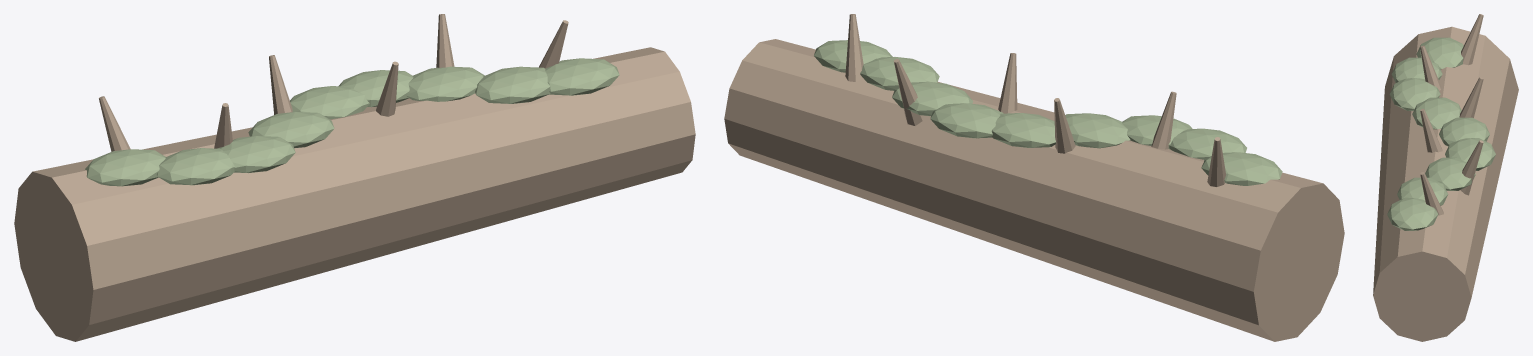
Rendered from prop_fallen_log.glb.
3 views of the same model, side by side, from view 1: azimuth 30°, elevation 25°; view 2: azimuth 150°, elevation 25°; view 3: azimuth 270°, elevation 25° (orthographic). The views are drawn at different scales.
Visible parts, largest first — view 1: log, moss_0, moss_1, moss_7, moss_8, moss_6, moss_3, moss_2, moss_4, moss_5, branch_2, branch_0 (+4 smaller); view 2: log, moss_5, moss_4, moss_3, moss_0, moss_7, moss_1, moss_6, moss_8, moss_2, branch_5, branch_3 (+4 smaller); view 3: log, moss_8, moss_2, moss_6, moss_3, moss_0, moss_4, moss_5, moss_7, moss_1, branch_0, branch_3 (+4 smaller).
Boxes of the visible parts, x1,y1,x2,y2 form: log: (14, 47, 695, 341); moss_0: (85, 149, 165, 186); moss_1: (157, 148, 234, 185); moss_7: (475, 66, 550, 103); moss_8: (545, 58, 619, 95); moss_6: (406, 66, 484, 101); moss_3: (248, 112, 334, 148); moss_2: (217, 136, 295, 173); moss_4: (290, 86, 369, 119); moss_5: (338, 70, 413, 107); branch_2: (269, 55, 292, 114); branch_0: (99, 96, 130, 151); log: (724, 39, 1344, 341); moss_5: (930, 103, 1003, 138); moss_4: (991, 113, 1056, 147); moss_3: (1065, 113, 1130, 148); moss_0: (1201, 152, 1282, 185); moss_7: (860, 57, 939, 90); moss_1: (1169, 128, 1246, 159); moss_6: (892, 81, 973, 116); moss_8: (814, 40, 892, 72); moss_2: (1122, 115, 1192, 149); branch_5: (845, 14, 863, 81); branch_3: (998, 53, 1017, 113); log: (1373, 26, 1518, 341); moss_8: (1387, 197, 1438, 230); moss_2: (1389, 78, 1440, 110); moss_6: (1425, 157, 1475, 190); moss_3: (1412, 97, 1461, 129); moss_0: (1416, 37, 1463, 69); moss_4: (1439, 117, 1489, 146); moss_5: (1445, 138, 1495, 170); moss_7: (1397, 177, 1448, 205); moss_1: (1391, 57, 1442, 82); branch_0: (1461, 14, 1483, 65); branch_3: (1420, 109, 1442, 152).
Size of the model in its own units: 2.69 by 0.8944 by 0.7391.
